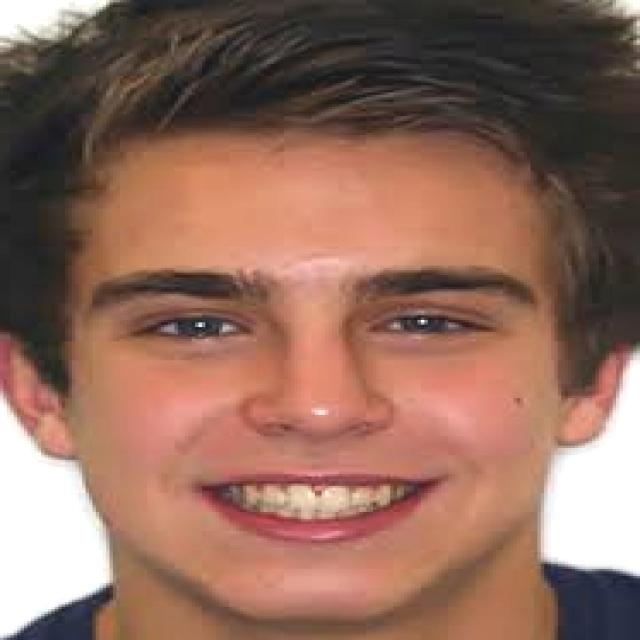normal_face: (68, 41, 557, 626)
